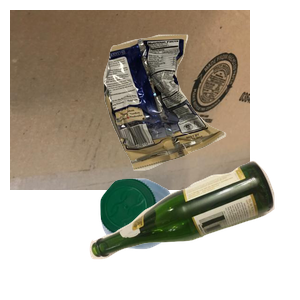cardboard: (10, 10, 250, 190)
glass: (87, 158, 300, 300)
plastic: (98, 176, 266, 300)
trash: (101, 32, 300, 195)
